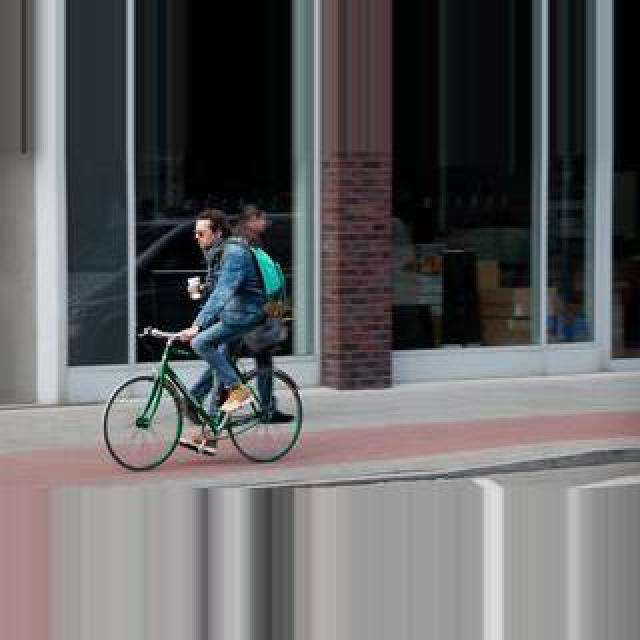MC-Bike: (142, 210, 270, 434)
Person: (100, 325, 304, 467)
